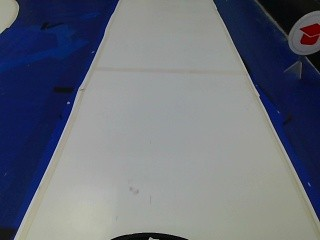school: (287, 8, 318, 62)
